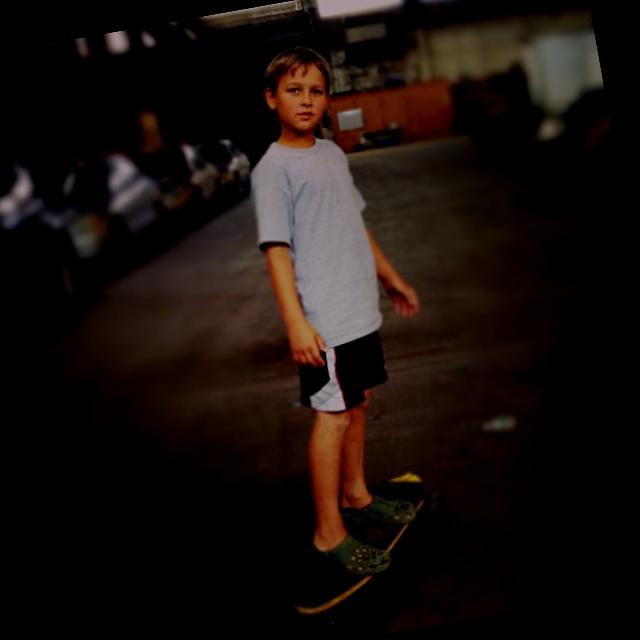Vehicle: (0, 132, 108, 375), (34, 141, 188, 287), (132, 136, 228, 230), (192, 134, 256, 204)
